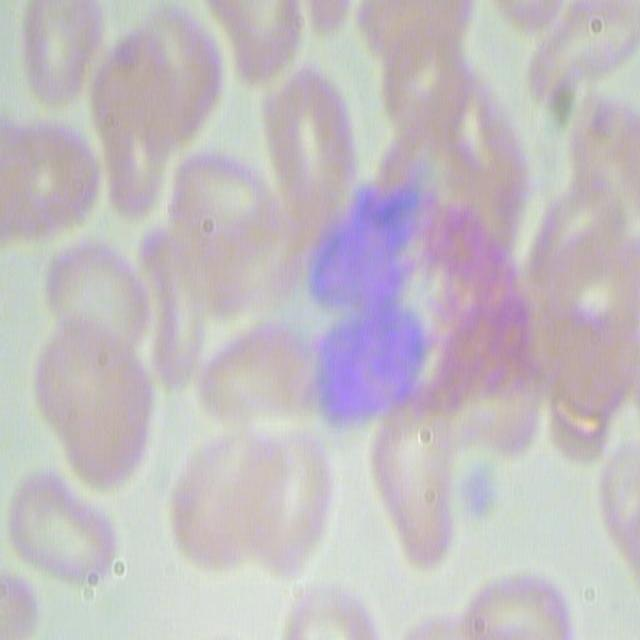RBC: (134, 234, 269, 414), (518, 172, 638, 354), (37, 316, 154, 501), (195, 417, 335, 570), (446, 0, 584, 152), (0, 100, 104, 288), (85, 0, 221, 137), (184, 147, 269, 330), (368, 0, 476, 139), (262, 71, 360, 222), (440, 324, 541, 470), (430, 154, 524, 305), (42, 236, 152, 360), (373, 406, 455, 568), (5, 473, 118, 589), (90, 98, 179, 216), (287, 576, 449, 640), (15, 0, 108, 101), (456, 568, 577, 640), (213, 0, 308, 88), (599, 436, 640, 579), (0, 572, 44, 639)
WBC: (274, 151, 414, 292), (268, 280, 426, 385)
platelets: (458, 467, 500, 532)
